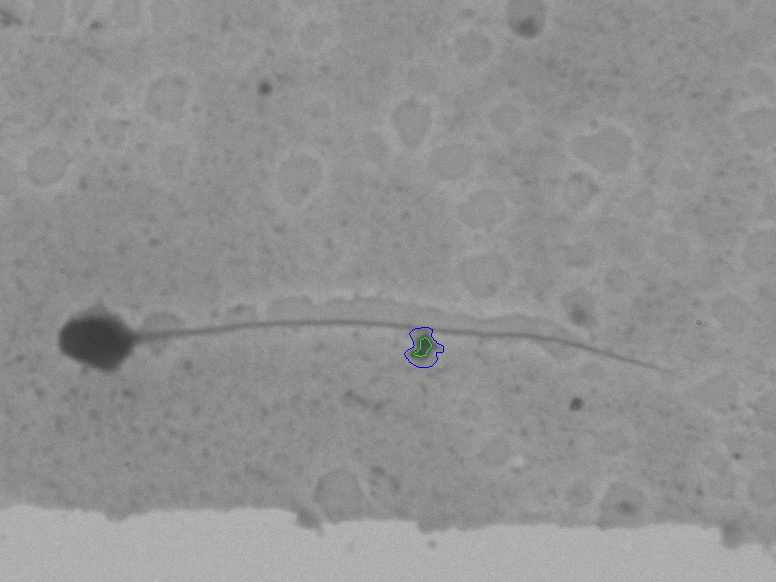Abnormal: (33, 244, 682, 438)
